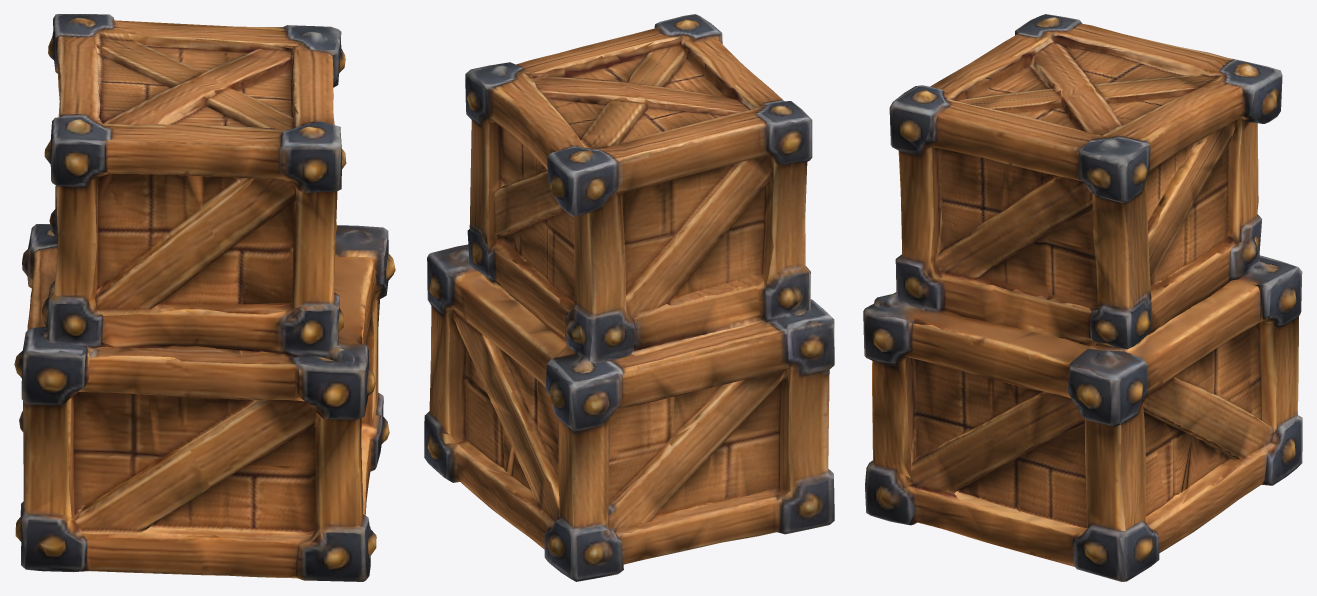
The model's file is crates.glb.
3 views of the same model, side by side, from view 1: azimuth 30°, elevation 25°; view 2: azimuth 150°, elevation 25°; view 3: azimuth 270°, elevation 25° (orthographic). The views are drawn at different scales.
Parts seen in each view (by area): view 1: crates; view 2: crates; view 3: crates.
Boxes of the visible parts, <box> form: crates: <box>14,14,395,581</box>; crates: <box>424,14,834,581</box>; crates: <box>863,14,1302,581</box>.
Bounding box in the file's own units: 2.2 × 2.33 × 2.22.
Materials: 1 (1 with a texture image).
